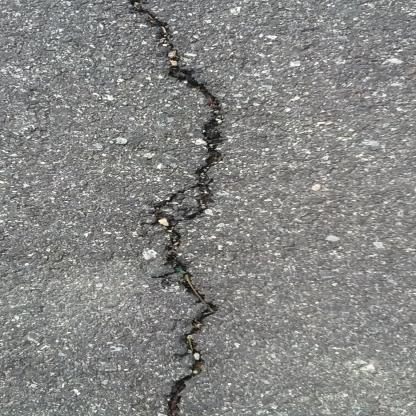Cracks: (129, 0, 224, 416)
